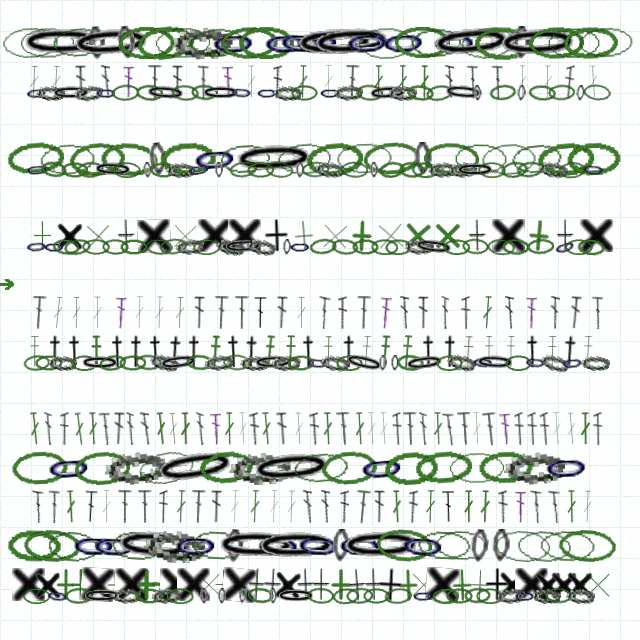chain: (152, 445, 239, 490), (249, 448, 334, 488), (429, 23, 514, 62), (69, 24, 154, 62), (310, 24, 394, 61), (114, 527, 198, 564), (293, 25, 377, 61), (496, 25, 580, 61), (232, 141, 316, 177), (340, 528, 423, 563), (255, 529, 338, 563), (20, 26, 103, 59), (215, 529, 298, 562), (135, 446, 198, 489), (103, 448, 167, 487), (135, 23, 195, 62), (458, 23, 518, 62), (503, 449, 566, 486), (68, 140, 127, 178), (305, 140, 364, 178), (536, 140, 595, 178), (291, 449, 350, 487), (229, 450, 291, 486), (362, 140, 422, 177), (508, 140, 566, 178), (6, 140, 65, 177), (275, 140, 334, 177), (320, 449, 379, 486), (414, 449, 473, 486), (171, 25, 233, 60), (493, 528, 553, 564), (375, 527, 433, 564), (23, 528, 82, 564), (515, 528, 574, 564), (50, 24, 107, 61), (198, 449, 255, 486), (188, 25, 246, 61), (38, 141, 96, 177), (100, 141, 158, 177), (480, 141, 538, 177), (73, 450, 131, 486), (558, 528, 616, 564), (144, 529, 205, 563), (335, 141, 394, 176), (217, 141, 274, 177), (383, 450, 440, 486), (45, 528, 102, 564), (577, 25, 635, 60), (11, 450, 69, 485), (538, 528, 596, 563), (109, 528, 165, 564), (220, 26, 279, 60), (159, 141, 216, 176), (415, 528, 472, 563), (433, 528, 490, 563), (1, 26, 59, 60), (357, 26, 415, 60), (566, 141, 622, 176), (478, 450, 534, 485), (189, 528, 245, 563), (154, 26, 211, 60), (474, 26, 531, 60), (448, 451, 505, 485), (19, 26, 75, 60), (528, 26, 584, 60), (563, 26, 619, 60), (423, 142, 479, 176), (238, 26, 295, 59), (409, 26, 464, 60), (7, 529, 62, 563), (118, 26, 174, 59), (394, 26, 450, 59), (546, 26, 602, 59), (453, 142, 509, 175), (191, 141, 239, 177), (45, 450, 93, 486), (358, 450, 406, 486), (399, 528, 447, 564), (294, 25, 342, 60), (295, 528, 343, 563), (278, 25, 325, 60), (344, 25, 391, 60), (380, 25, 427, 60), (543, 450, 590, 485), (210, 26, 257, 60), (262, 26, 309, 60), (431, 26, 478, 60), (91, 529, 138, 563), (255, 529, 302, 563), (71, 529, 117, 562), (173, 529, 219, 562), (337, 529, 383, 562), (343, 351, 385, 375), (158, 352, 199, 373), (413, 237, 454, 257), (404, 353, 445, 373), (443, 83, 484, 102), (145, 84, 186, 102), (116, 25, 137, 60), (368, 84, 408, 102), (539, 352, 571, 374), (148, 142, 168, 176), (93, 161, 133, 178), (223, 238, 263, 255), (253, 354, 293, 371), (475, 354, 515, 371), (149, 352, 180, 373), (446, 352, 477, 373), (87, 26, 106, 60), (225, 529, 244, 563), (470, 529, 489, 563), (51, 85, 91, 101), (201, 85, 241, 101), (455, 162, 495, 178), (80, 355, 120, 371), (82, 588, 122, 604), (276, 588, 316, 604), (73, 83, 104, 103), (215, 237, 246, 257), (246, 237, 277, 257), (414, 142, 432, 175), (332, 529, 350, 562), (492, 529, 510, 562), (425, 83, 454, 103), (63, 237, 92, 257), (98, 353, 127, 373), (552, 236, 578, 258), (448, 160, 478, 179), (538, 160, 568, 179), (175, 237, 205, 256), (204, 353, 234, 372), (151, 586, 181, 605), (496, 586, 526, 605), (513, 26, 530, 59), (265, 160, 294, 179), (500, 160, 529, 179), (159, 237, 188, 256), (271, 354, 301, 372), (320, 354, 350, 372), (489, 83, 517, 102), (583, 83, 611, 102), (40, 160, 68, 179), (229, 160, 257, 179), (378, 160, 406, 179), (516, 160, 544, 179), (309, 237, 337, 256), (384, 587, 413, 605), (171, 84, 199, 102), (406, 84, 434, 102), (528, 84, 556, 102), (411, 161, 439, 179), (558, 161, 586, 179), (52, 238, 80, 256), (145, 238, 173, 256), (331, 238, 359, 256), (487, 238, 515, 256), (577, 238, 605, 256), (23, 354, 51, 372), (332, 587, 360, 605), (334, 84, 363, 101), (315, 161, 344, 178), (428, 161, 457, 178), (405, 238, 434, 255), (112, 587, 141, 604), (396, 354, 424, 371), (65, 587, 93, 604), (246, 587, 274, 604), (36, 85, 65, 101), (273, 85, 302, 101), (388, 85, 417, 101), (166, 162, 195, 178), (48, 355, 77, 371), (240, 355, 269, 371), (581, 355, 610, 371), (532, 588, 561, 604), (566, 588, 595, 604), (112, 84, 139, 101), (136, 84, 163, 101), (191, 84, 218, 101), (356, 84, 383, 101), (548, 84, 575, 101), (77, 161, 104, 178), (302, 161, 329, 178), (341, 161, 368, 178), (462, 238, 489, 255), (502, 238, 529, 255), (527, 238, 554, 255), (135, 354, 162, 371), (186, 354, 213, 371), (223, 354, 250, 371), (307, 587, 334, 604), (346, 587, 373, 604), (464, 587, 491, 604), (545, 587, 572, 604), (187, 160, 211, 179), (113, 162, 141, 178), (478, 162, 506, 178), (82, 239, 110, 255), (565, 239, 593, 255), (166, 588, 194, 604), (399, 161, 425, 178), (291, 85, 318, 101), (61, 162, 88, 178), (150, 162, 177, 178), (247, 162, 274, 178), (102, 239, 129, 255), (120, 239, 147, 255), (193, 239, 220, 255), (352, 239, 379, 255), (371, 239, 398, 255), (385, 239, 412, 255), (443, 239, 470, 255), (35, 355, 62, 371), (71, 355, 98, 371), (119, 355, 146, 371), (287, 355, 314, 371), (336, 355, 363, 371), (436, 355, 463, 371), (505, 355, 532, 371), (23, 588, 50, 604), (135, 588, 162, 604), (363, 588, 390, 604), (432, 588, 459, 604), (446, 588, 473, 604), (476, 588, 503, 604), (25, 84, 48, 102), (306, 354, 329, 372), (561, 354, 584, 372), (46, 587, 69, 605), (230, 84, 253, 101), (582, 161, 605, 178), (25, 238, 48, 255), (524, 354, 547, 371), (26, 161, 48, 178), (472, 354, 494, 371), (95, 85, 117, 101), (256, 85, 278, 101), (319, 85, 341, 101), (43, 239, 65, 255), (289, 239, 311, 255), (412, 588, 434, 604), (514, 588, 536, 604), (238, 587, 248, 604), (473, 85, 482, 101), (517, 85, 526, 101), (576, 85, 585, 101), (143, 162, 152, 178), (215, 162, 223, 178), (296, 162, 304, 178), (370, 162, 378, 178), (283, 239, 291, 255), (379, 355, 387, 371), (391, 355, 399, 371), (200, 588, 208, 604), (218, 588, 226, 604), (269, 588, 277, 604)
double: (482, 412, 499, 446), (355, 490, 371, 524), (31, 296, 47, 329), (336, 412, 352, 445), (457, 412, 473, 445), (72, 412, 87, 446), (442, 412, 457, 446), (345, 65, 360, 98), (214, 296, 229, 329), (403, 412, 418, 445), (191, 490, 206, 523), (148, 65, 162, 98), (51, 296, 65, 329), (235, 296, 249, 329), (317, 296, 331, 329), (357, 296, 371, 329), (28, 412, 42, 445), (98, 412, 112, 445), (154, 412, 168, 445), (84, 490, 98, 523), (118, 490, 132, 523), (138, 490, 152, 523), (548, 490, 562, 523), (196, 65, 209, 98), (587, 65, 600, 98), (254, 296, 267, 329), (379, 296, 392, 329), (481, 296, 494, 329), (569, 296, 582, 329), (167, 412, 180, 445), (260, 412, 273, 445), (276, 412, 289, 445), (499, 412, 512, 445), (565, 412, 578, 445), (47, 490, 60, 523), (442, 490, 455, 523), (530, 490, 543, 523), (28, 65, 40, 98), (50, 65, 62, 98), (75, 65, 87, 98), (222, 65, 234, 98), (297, 65, 309, 98), (466, 65, 478, 98), (491, 65, 503, 98), (115, 296, 127, 329), (174, 296, 186, 329), (276, 296, 288, 329), (591, 296, 603, 329), (87, 412, 99, 445), (113, 412, 125, 445), (210, 412, 222, 445), (237, 412, 249, 445), (293, 412, 305, 445), (322, 412, 334, 445), (354, 412, 366, 445), (366, 412, 378, 445), (378, 412, 390, 445), (432, 412, 444, 445), (471, 412, 483, 445), (539, 412, 551, 445), (551, 412, 563, 445), (32, 490, 44, 523), (65, 490, 77, 523), (175, 490, 187, 523), (229, 490, 241, 523), (249, 490, 261, 523), (268, 490, 280, 523), (391, 490, 403, 523), (479, 490, 491, 523), (123, 65, 134, 98), (172, 65, 183, 98), (246, 65, 257, 98), (323, 65, 334, 98), (373, 65, 384, 98), (397, 65, 408, 98), (419, 65, 430, 98), (517, 65, 528, 98), (542, 65, 553, 98), (564, 65, 575, 98), (71, 296, 82, 329), (92, 296, 103, 329), (134, 296, 145, 329), (154, 296, 165, 329), (194, 296, 205, 329), (296, 296, 307, 329), (418, 296, 429, 329), (526, 296, 537, 329), (549, 296, 560, 329), (140, 412, 151, 445), (180, 412, 191, 445), (224, 412, 235, 445), (249, 412, 260, 445), (309, 412, 320, 445), (392, 412, 403, 445), (514, 412, 525, 445), (527, 412, 538, 445), (580, 412, 591, 445), (101, 490, 112, 523), (211, 490, 222, 523), (286, 490, 297, 523), (374, 490, 385, 523), (425, 490, 436, 523), (463, 490, 474, 523), (515, 490, 526, 523), (566, 490, 577, 523), (582, 490, 593, 523), (101, 65, 111, 98), (461, 296, 471, 329), (593, 412, 603, 445), (303, 490, 313, 523), (408, 490, 418, 523), (498, 490, 508, 523), (273, 65, 282, 98), (445, 65, 454, 98), (338, 296, 347, 329), (400, 296, 409, 329), (505, 296, 514, 329), (44, 412, 53, 445), (60, 412, 69, 445), (126, 412, 135, 445), (196, 412, 205, 445), (419, 412, 428, 445), (159, 490, 168, 523), (321, 490, 330, 523), (340, 490, 349, 523), (441, 296, 449, 329)
half_double: (164, 335, 186, 369), (559, 335, 581, 369), (241, 335, 262, 369), (45, 335, 65, 368), (126, 335, 146, 368), (184, 335, 204, 368), (339, 335, 359, 368), (440, 335, 460, 368), (65, 335, 84, 368), (108, 335, 127, 368), (146, 335, 165, 368), (224, 335, 243, 368), (299, 335, 318, 368), (419, 335, 438, 368), (523, 335, 542, 368), (262, 335, 277, 368), (359, 335, 374, 368), (208, 335, 222, 368), (378, 335, 392, 368), (400, 335, 414, 368), (461, 335, 475, 368), (28, 335, 41, 368), (90, 335, 103, 368), (284, 335, 297, 368), (581, 335, 594, 368), (322, 335, 334, 368), (483, 335, 495, 368), (505, 335, 517, 368), (546, 335, 558, 368)
noise: (0, 279, 16, 290)
single: (221, 567, 257, 603), (286, 218, 321, 253), (373, 218, 408, 253), (400, 218, 435, 253), (521, 218, 556, 253), (80, 567, 115, 602), (144, 567, 179, 602), (425, 567, 460, 602), (81, 219, 115, 253), (137, 219, 171, 253), (168, 219, 202, 253), (318, 219, 352, 253), (345, 219, 379, 253), (391, 568, 425, 602), (445, 568, 479, 602), (463, 568, 497, 602), (272, 567, 304, 602), (26, 219, 59, 252), (198, 219, 231, 252), (228, 219, 261, 252), (431, 219, 464, 252), (492, 219, 525, 252), (580, 219, 613, 252), (12, 568, 45, 601), (49, 568, 82, 601), (64, 568, 97, 601), (99, 568, 132, 601), (115, 568, 148, 601), (130, 568, 163, 601), (160, 568, 193, 601), (177, 568, 210, 601), (192, 568, 225, 601), (207, 568, 240, 601), (324, 568, 357, 601), (407, 568, 440, 601), (515, 568, 548, 601), (581, 568, 614, 601), (497, 568, 528, 601), (55, 219, 85, 252), (33, 568, 63, 601), (533, 568, 563, 601), (549, 568, 579, 601), (565, 568, 595, 601), (377, 568, 403, 602), (263, 219, 289, 252), (484, 568, 509, 601), (348, 568, 367, 602), (248, 568, 266, 601), (264, 568, 282, 601), (297, 568, 315, 601), (365, 568, 383, 601), (118, 219, 135, 252), (469, 219, 486, 252), (557, 219, 574, 252), (313, 568, 330, 601)
